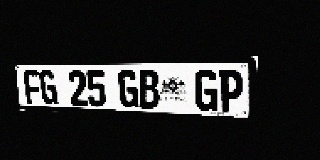2: (68, 70, 88, 106)
5: (86, 70, 107, 107)
B: (138, 70, 160, 109)
F: (23, 70, 42, 104)
G: (195, 70, 218, 111), (118, 70, 139, 108), (38, 70, 58, 105)
P: (218, 70, 244, 112)
